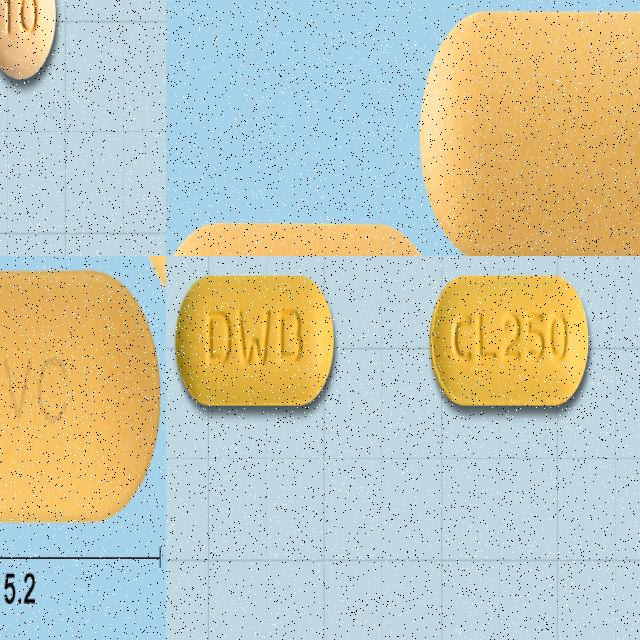Claric - 500mg: (417, 1, 640, 256)
Claricin - 500mg: (0, 263, 164, 530)
Crabacter Tab: (0, 0, 56, 79)
Daewoong Clarithromycin: (175, 275, 336, 406), (431, 274, 589, 406)
